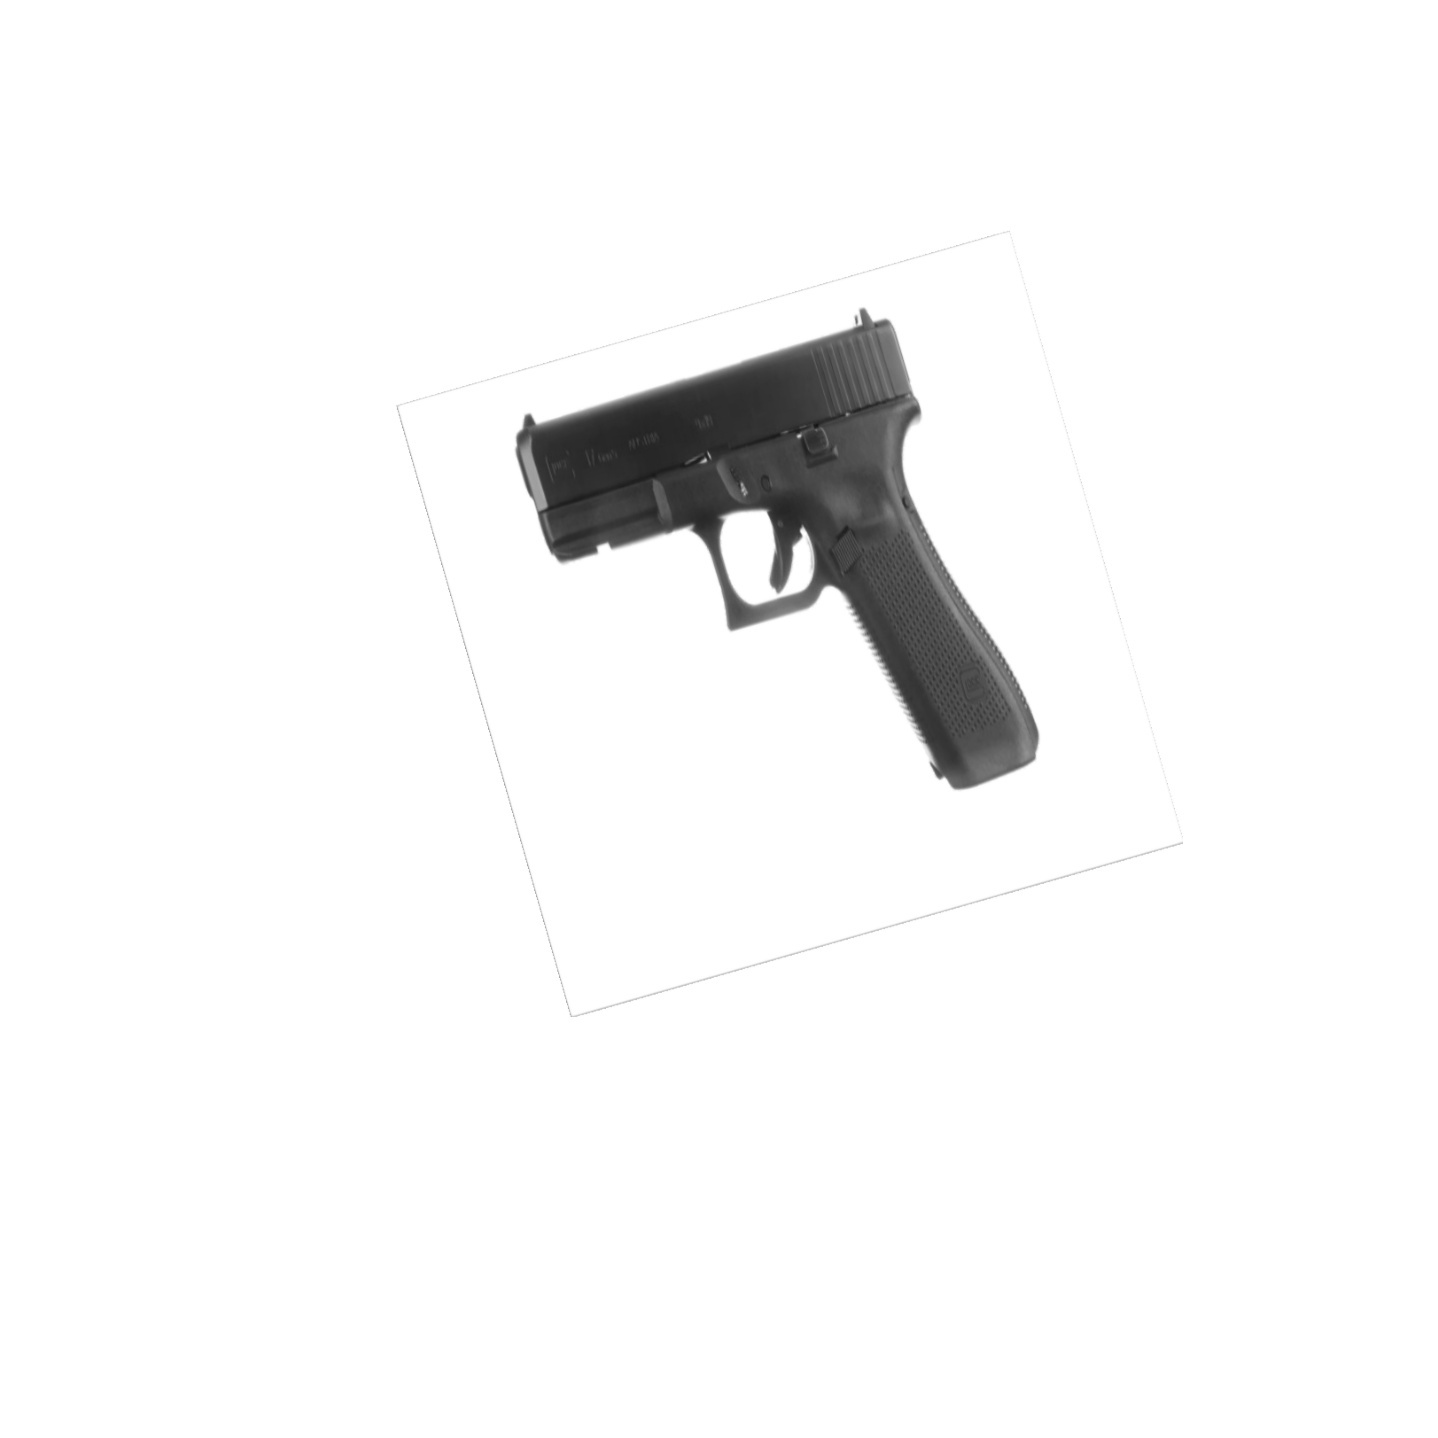gun: (514, 306, 1039, 790)
